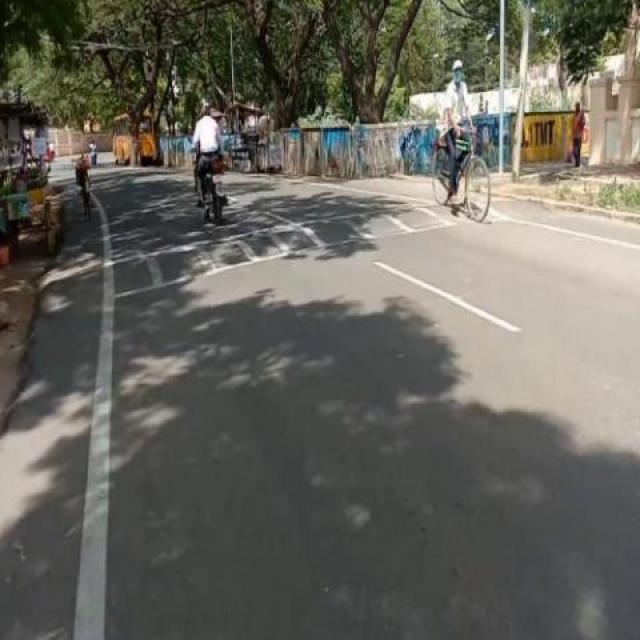Speed Bump: (36, 196, 547, 296)
